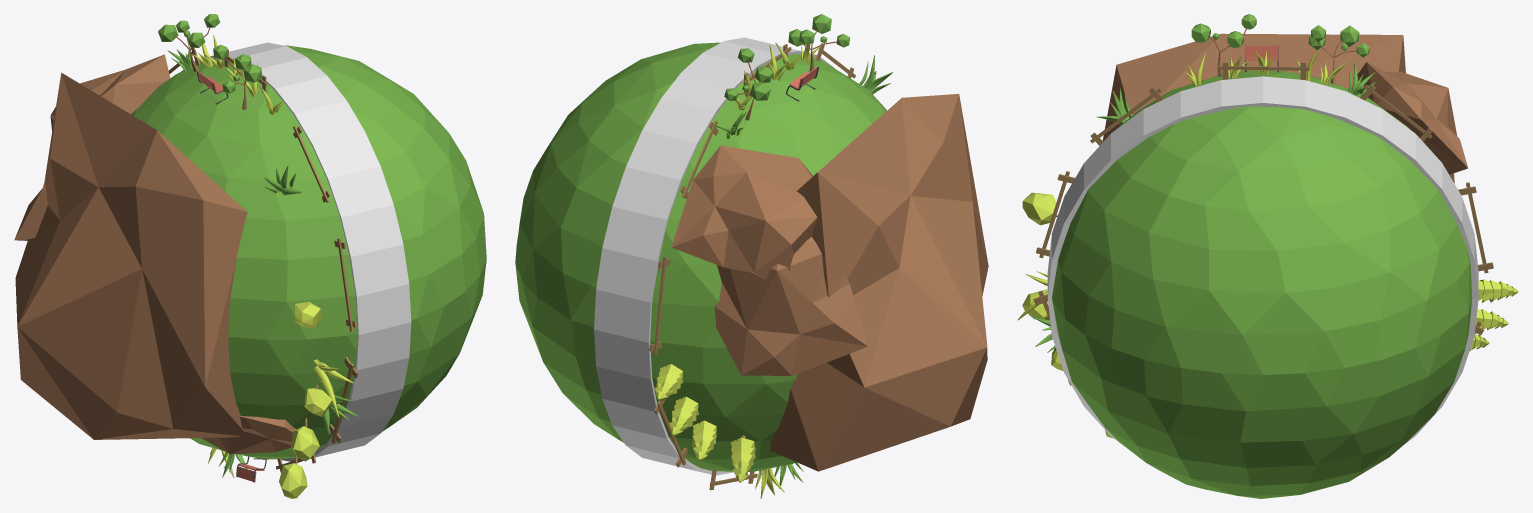
File: globe.fbx
3 views of the same model, side by side, from view 1: azimuth 30°, elevation 25°; view 2: azimuth 150°, elevation 25°; view 3: azimuth 270°, elevation 25° (orthographic). The views are drawn at different scales.
Parts seen in each view (by area): view 1: Sphere.001; view 2: Sphere.001; view 3: Sphere.001.
Part boxes in pixels (x1,y1,x2,y2): Sphere.001: (14,14,486,498); Sphere.001: (515,14,988,498); Sphere.001: (1017,14,1518,498).
Size of the model in its own units: 3214 by 3160 by 3110.
